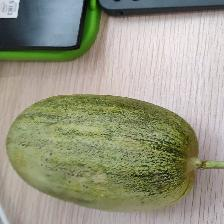gua: (36, 102, 176, 195)
